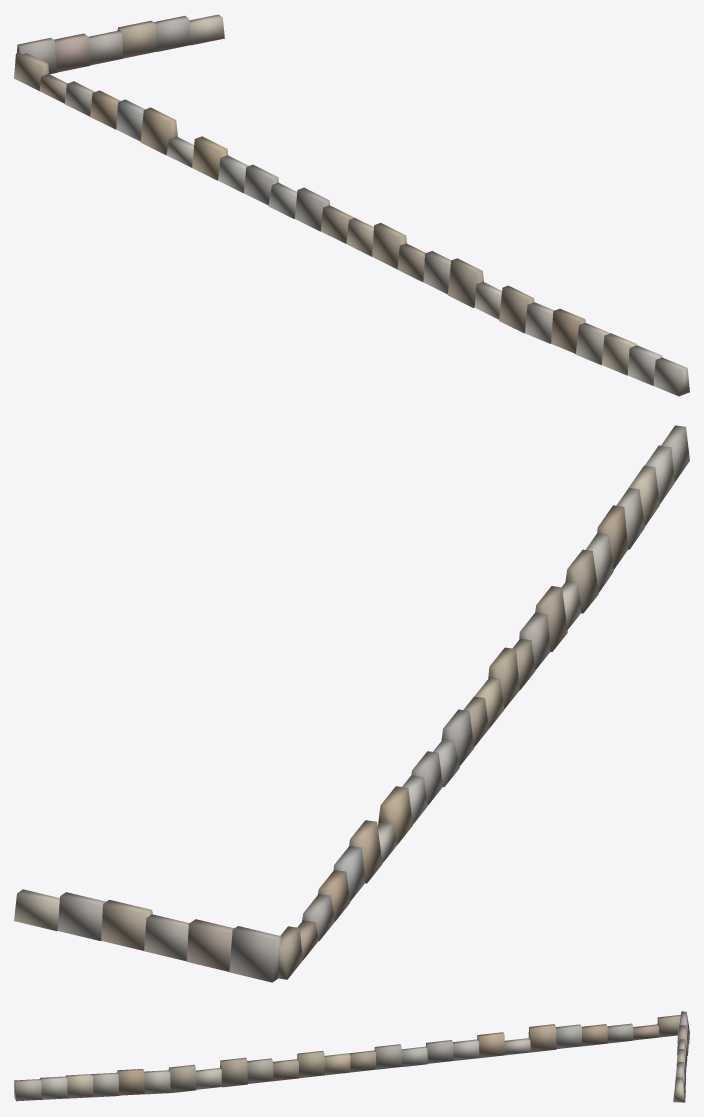
Rendered from farm_16_8_collision.glb.
3 renders of one model, top to bottom at view 1: azimuth 30°, elevation 25°; view 2: azimuth 150°, elevation 25°; view 3: azimuth 270°, elevation 25°, orthographic. The views are drawn at different scales.
Visible parts, largest first — view 1: geometry_0; view 2: geometry_0; view 3: geometry_0.
Part boxes in pixels (x1,y1,x2,y2): geometry_0: [14, 14, 689, 396]; geometry_0: [14, 425, 689, 982]; geometry_0: [14, 1011, 689, 1102].
Size of the model in its own units: 9.76 by 2.13 by 40.46.
